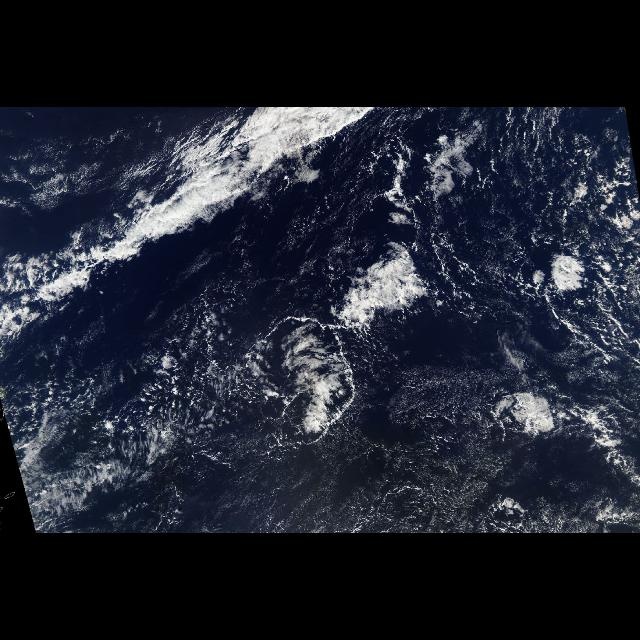Sugar: (215, 445, 490, 533)
